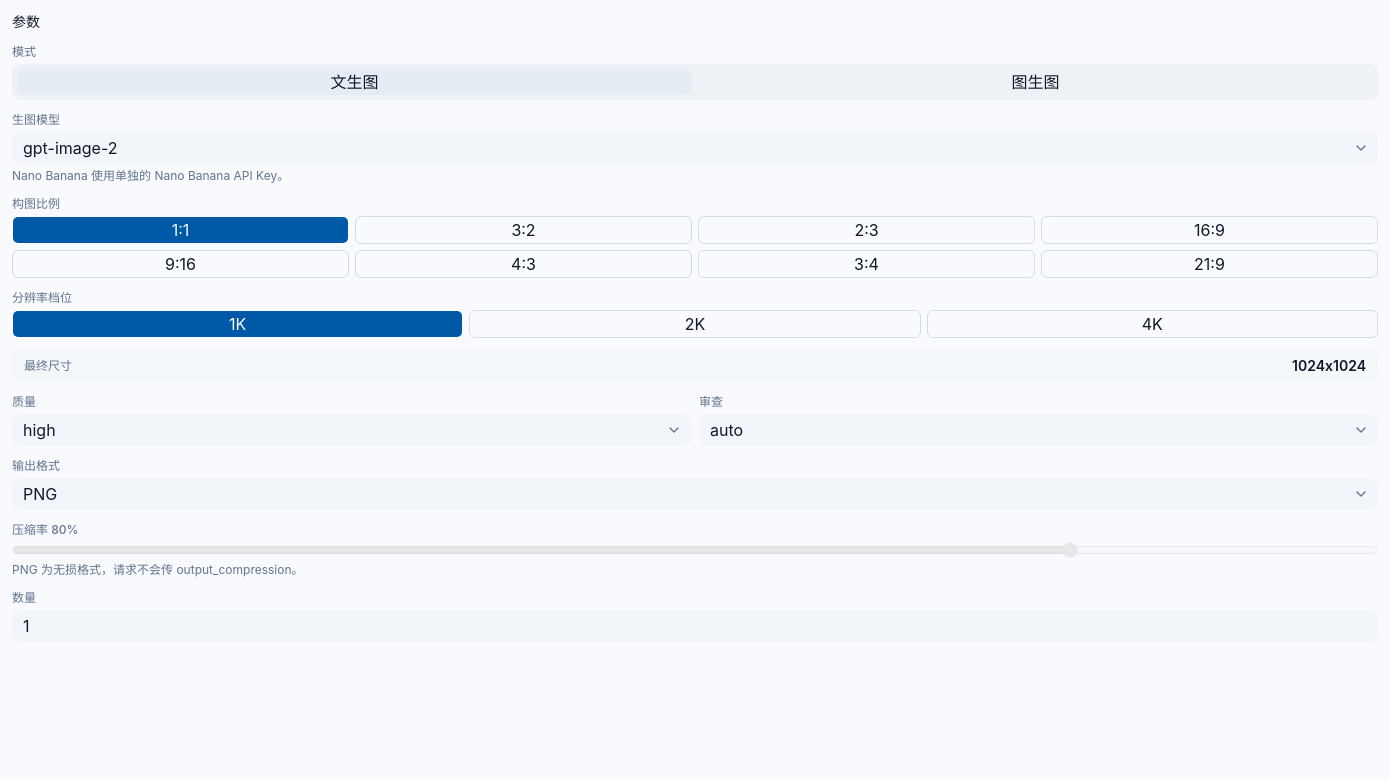
Test: ParameterPanel › updates resolution tier and target size
What coordinates should you click on to do the following:
click the button "4K"
I would click on:
 (1152, 324)
Its box is [927,310,1378,338].
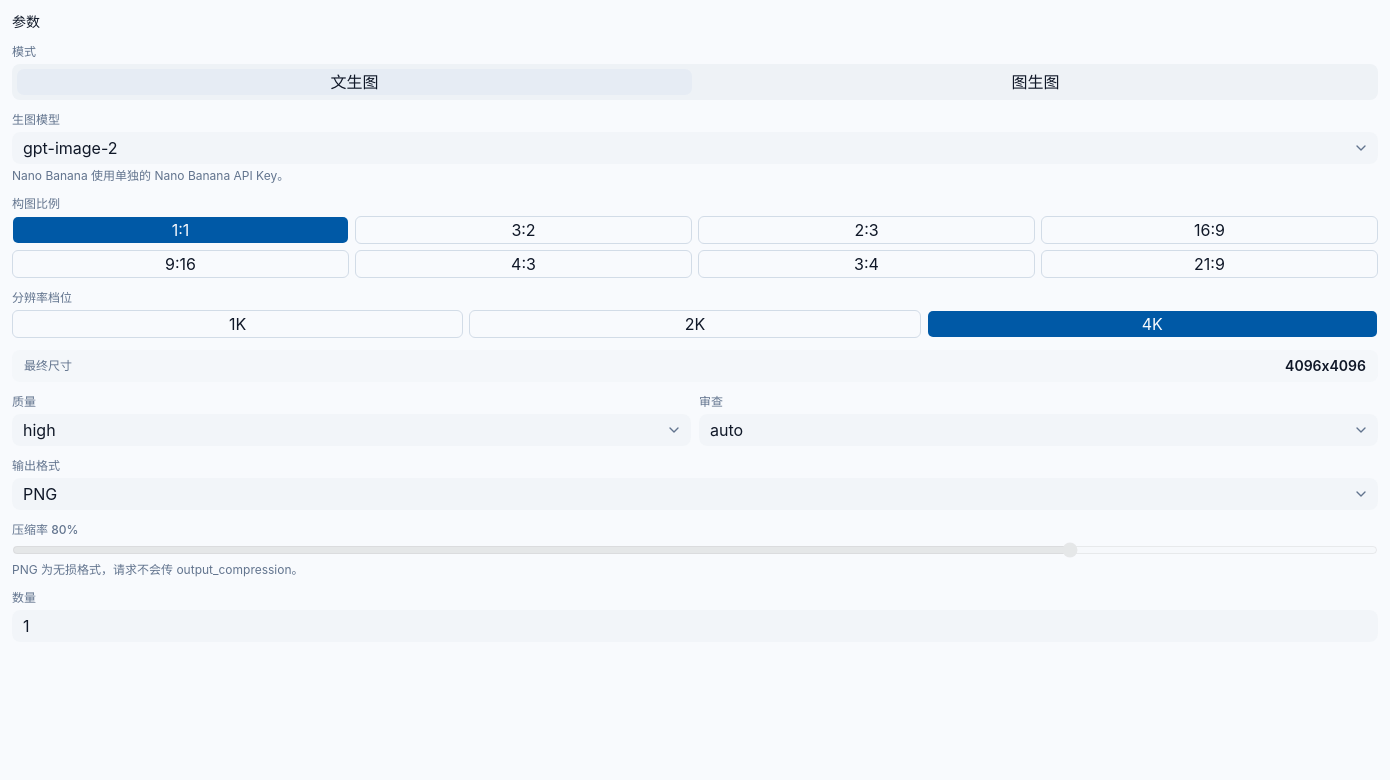
Now the text "4096x4096" is shown, box [1285,356,1366,376]
